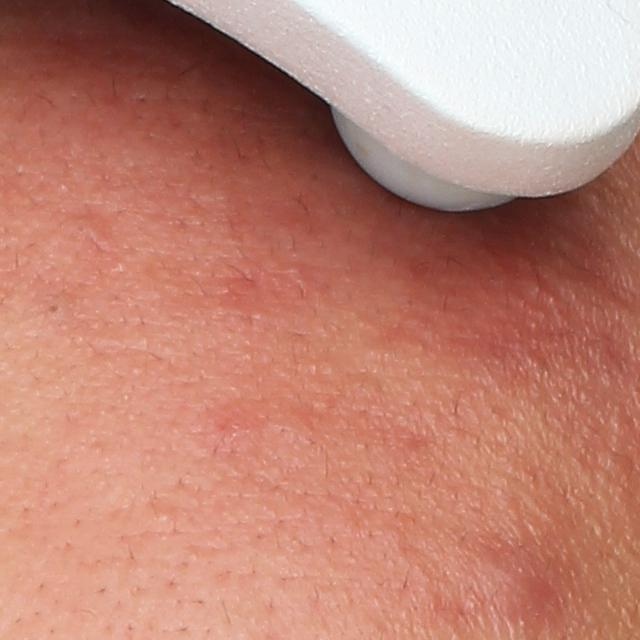comedo: (154, 504, 177, 529), (43, 297, 67, 318)
